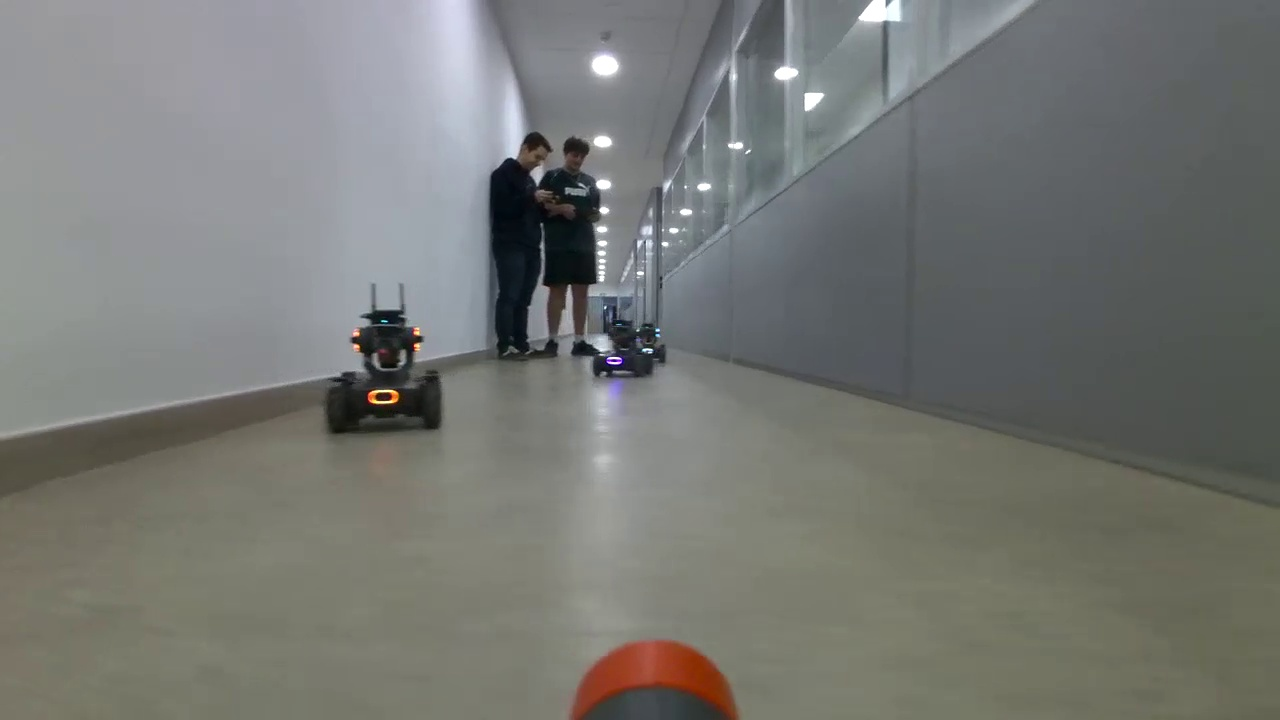robot: (324, 308, 443, 433), (593, 321, 653, 377), (635, 323, 667, 362)
